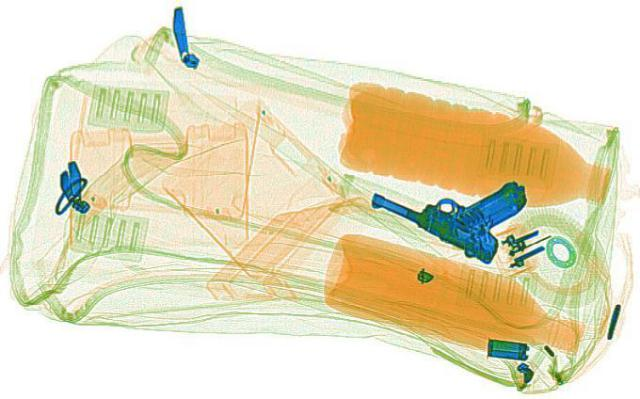Gun: (362, 145, 576, 264)
